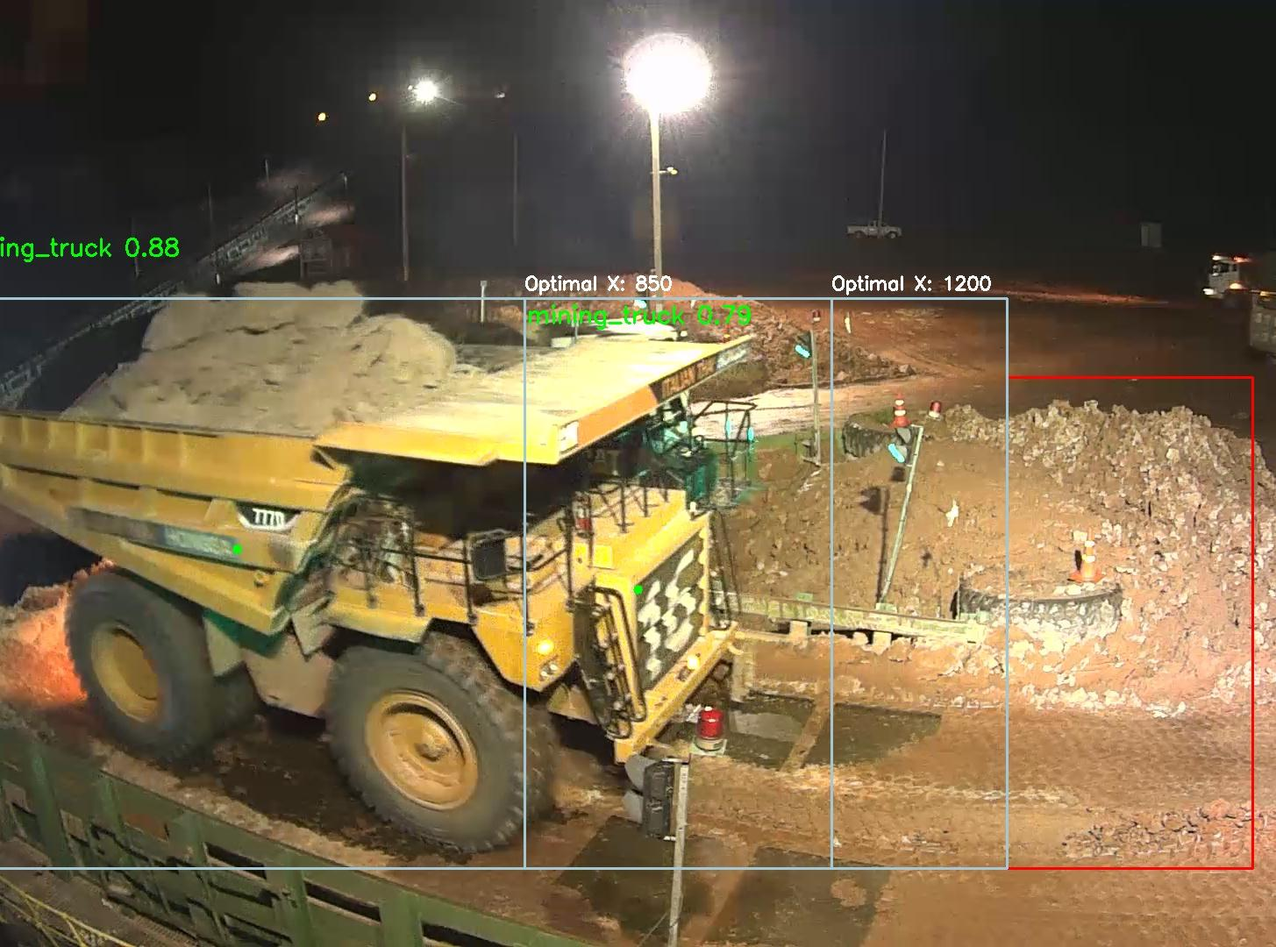company: (61, 506, 238, 562)
full_load: (138, 273, 450, 465)
mining_truck: (8, 256, 774, 852)
truck_size: (234, 501, 304, 530)
